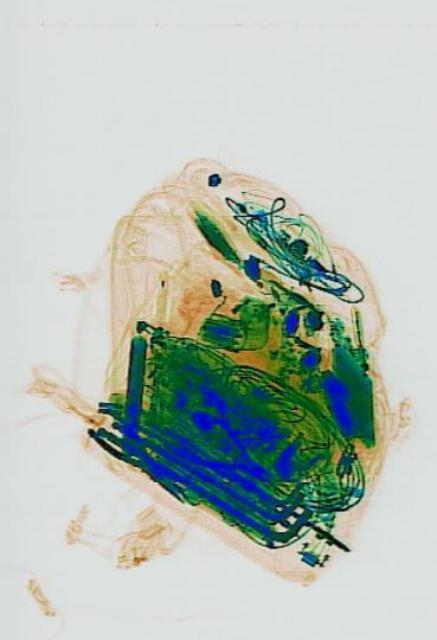Pliers: (83, 400, 193, 512), (172, 398, 277, 508)
